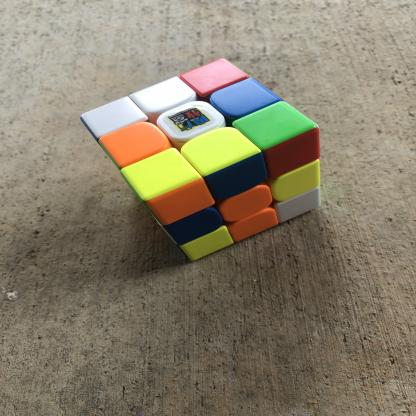UnsolvedCube: (67, 55, 352, 266)
